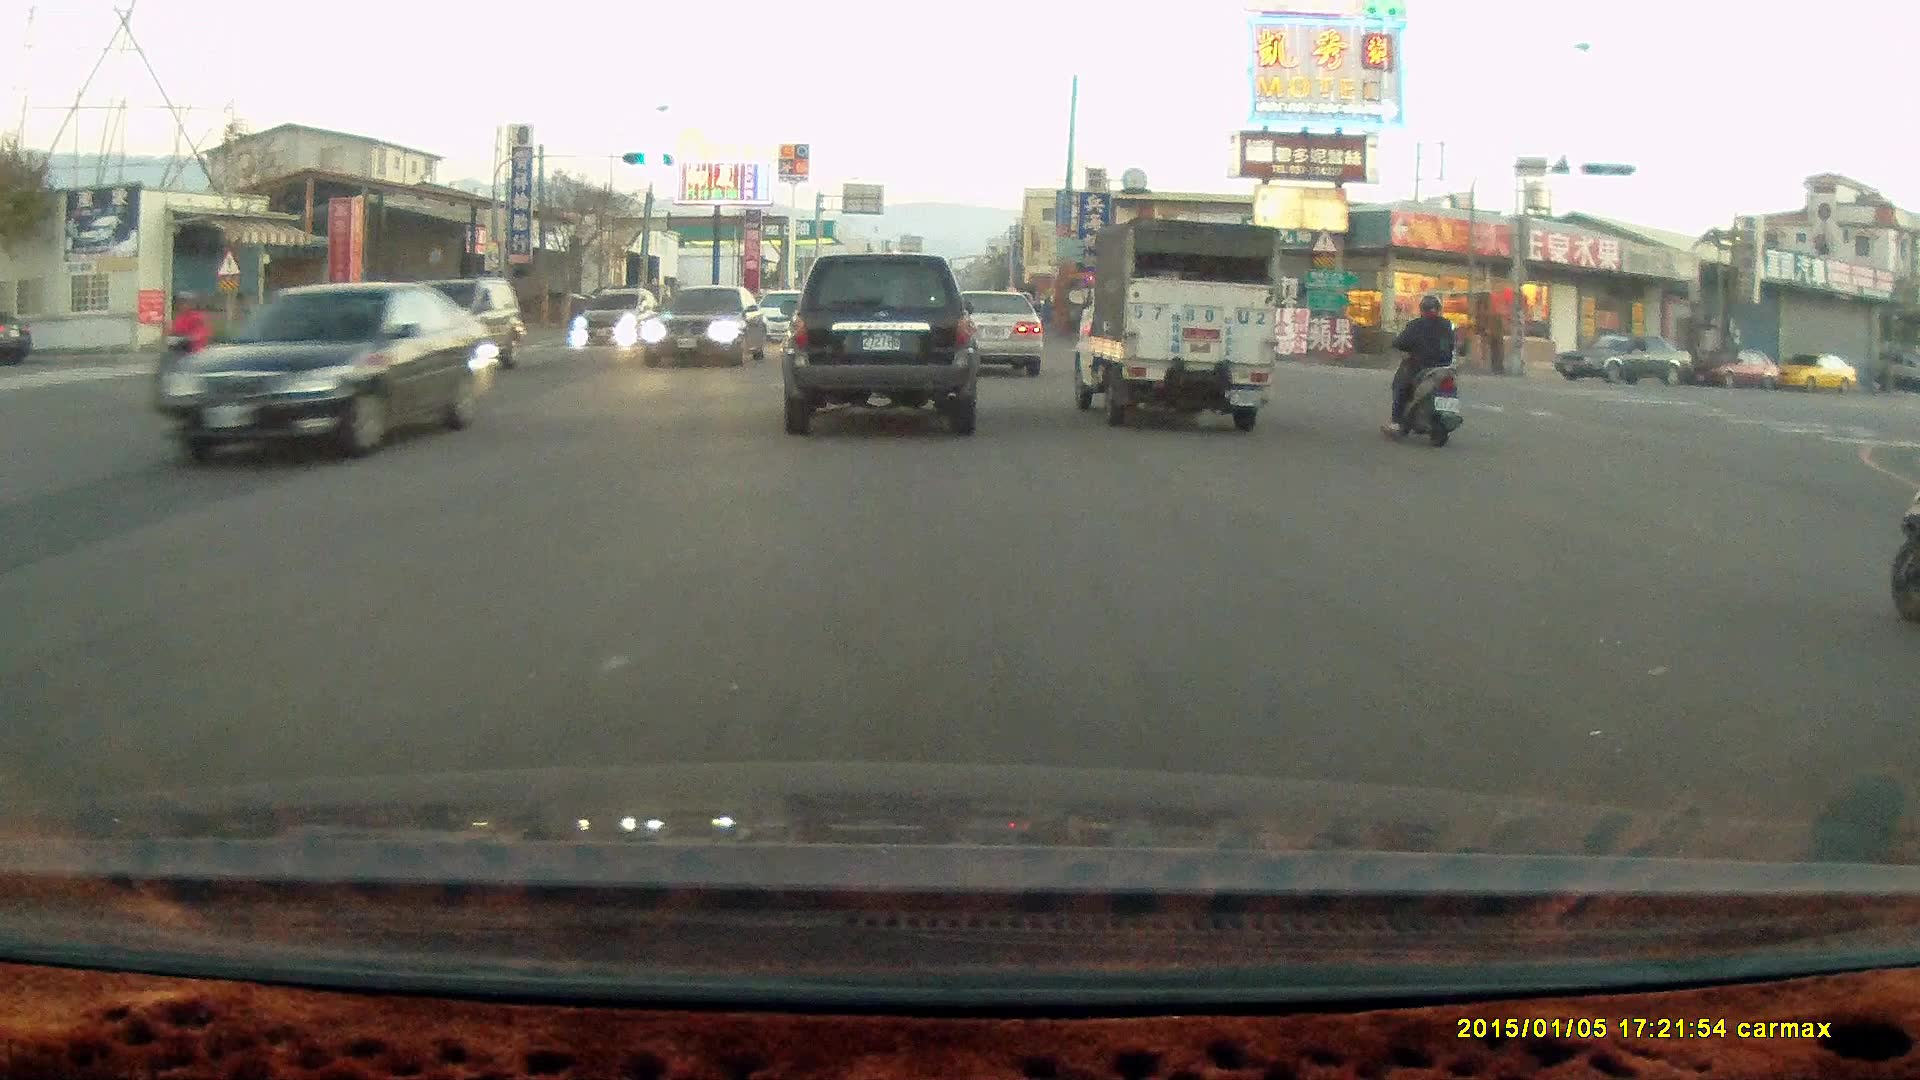rider: (1383, 294, 1462, 450), (150, 290, 214, 405)
vehicle: (152, 284, 495, 475), (1065, 214, 1284, 432), (779, 251, 977, 438), (643, 289, 772, 373), (931, 287, 1044, 380), (946, 290, 1047, 381), (1553, 332, 1698, 388), (359, 293, 468, 340), (579, 289, 660, 348), (1769, 355, 1861, 397), (1693, 350, 1782, 389)
